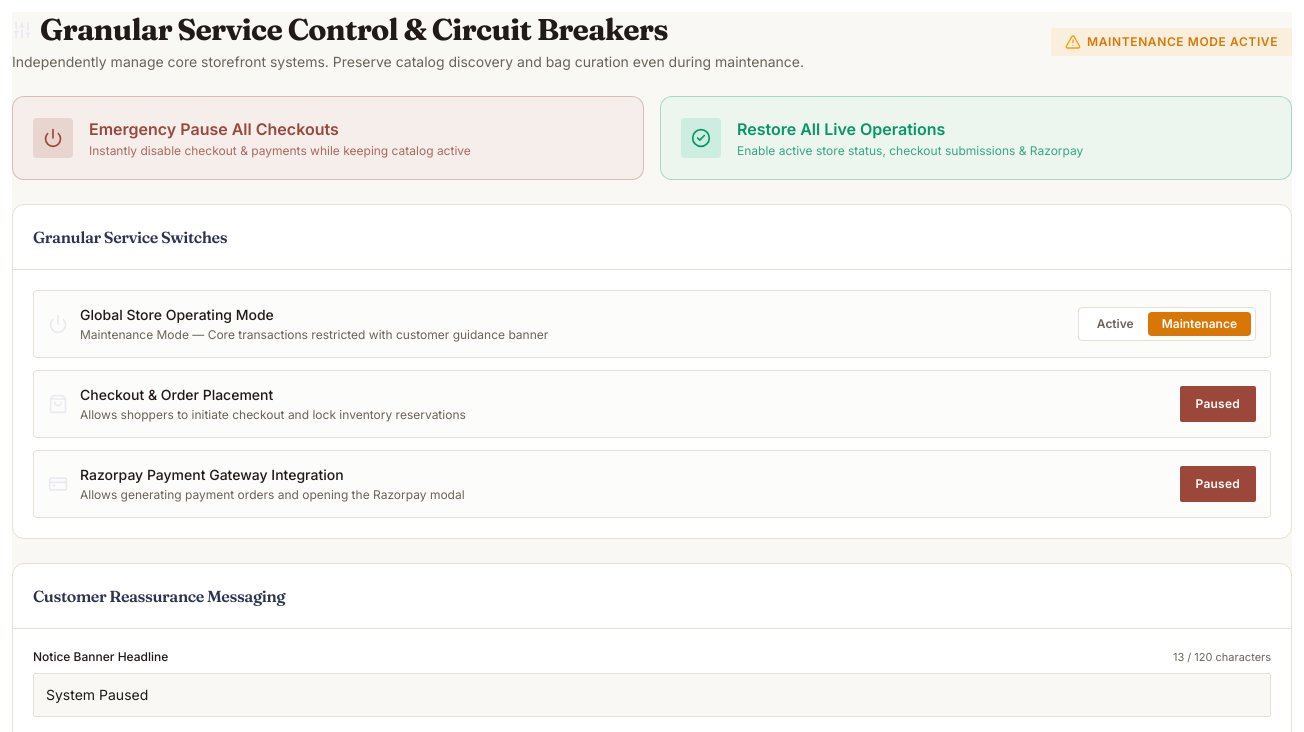
ServiceControlDashboard Component › restores all operations on restore click
Expected: the text "MAINTENANCE MODE ACTIVE" is shown, [1087,34,1278,50]
Click the button "Restore All Live Operations" at (701, 138), box [660,96,1292,180]
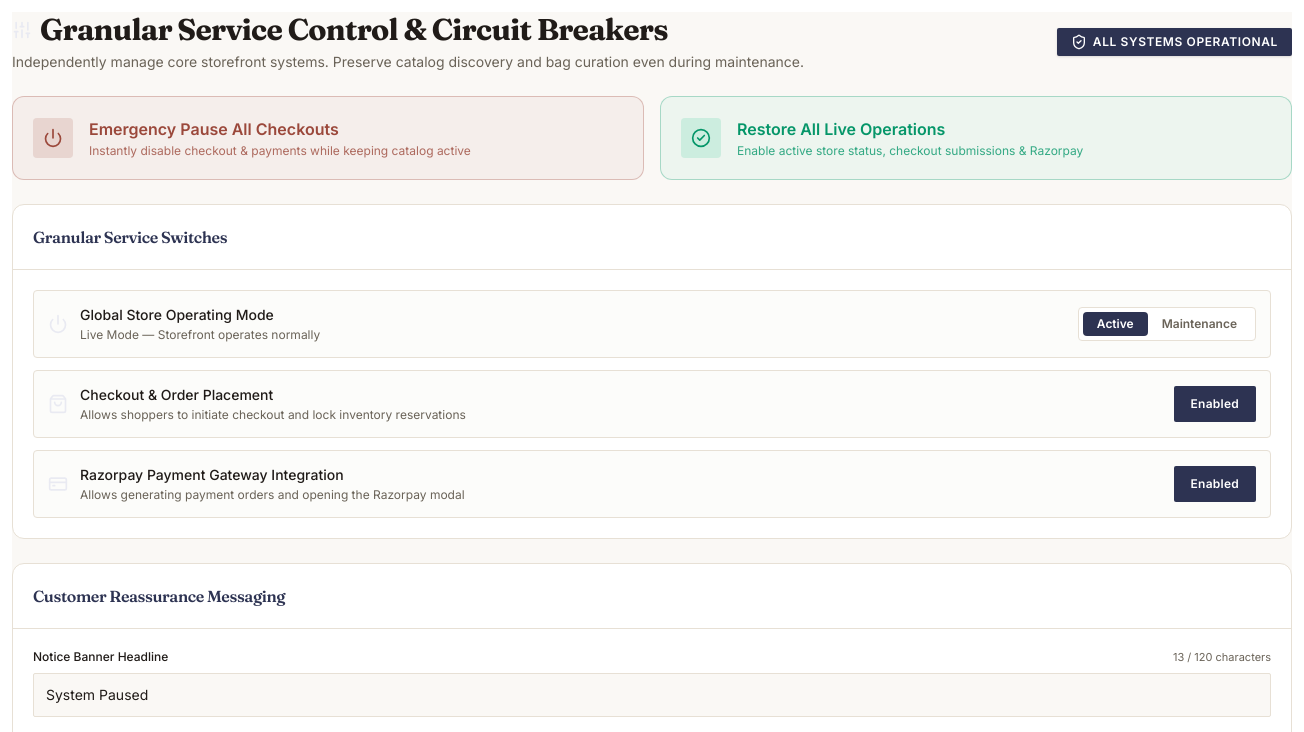
Expected: the button with aria-label "disable checkout" is shown, [1174,386,1256,422]
Now the text "ALL SYSTEMS OPERATIONAL" is shown, box [1093,34,1278,50]
